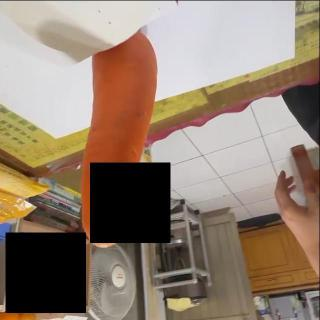carrot: (82, 31, 158, 247)
